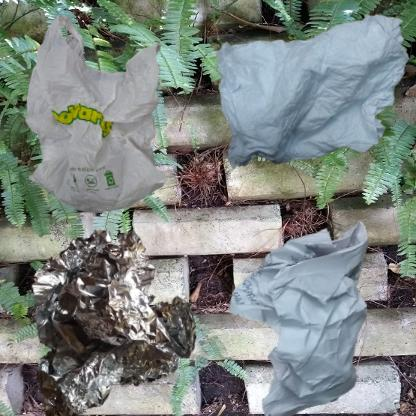aluminio: (10, 213, 218, 416)
bolsa: (10, 10, 198, 233)
papel: (213, 213, 416, 416), (213, 10, 416, 173)
